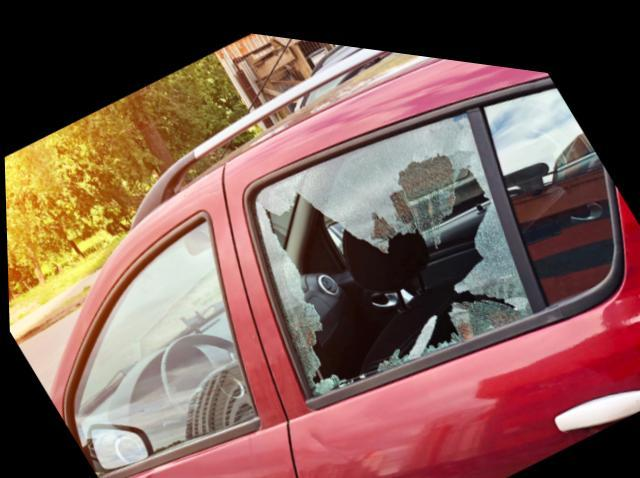glass shatter: (252, 100, 533, 389)
